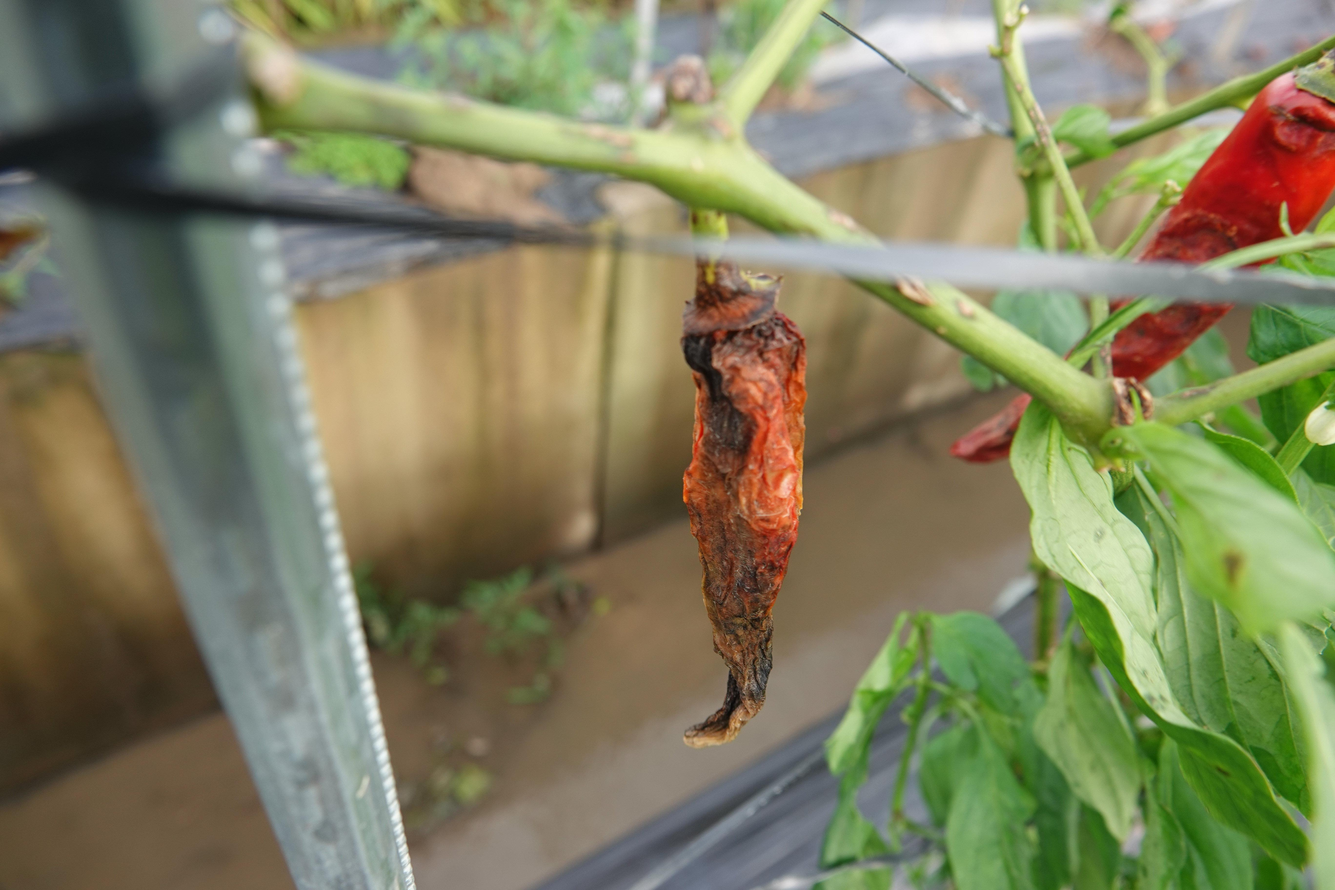Busuk Buah Antraknosa: (947, 49, 1333, 469), (676, 253, 810, 750)
